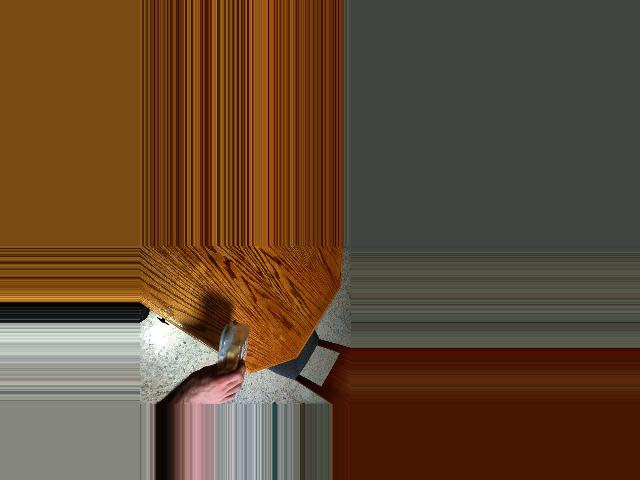cheese: (192, 322, 260, 389)
